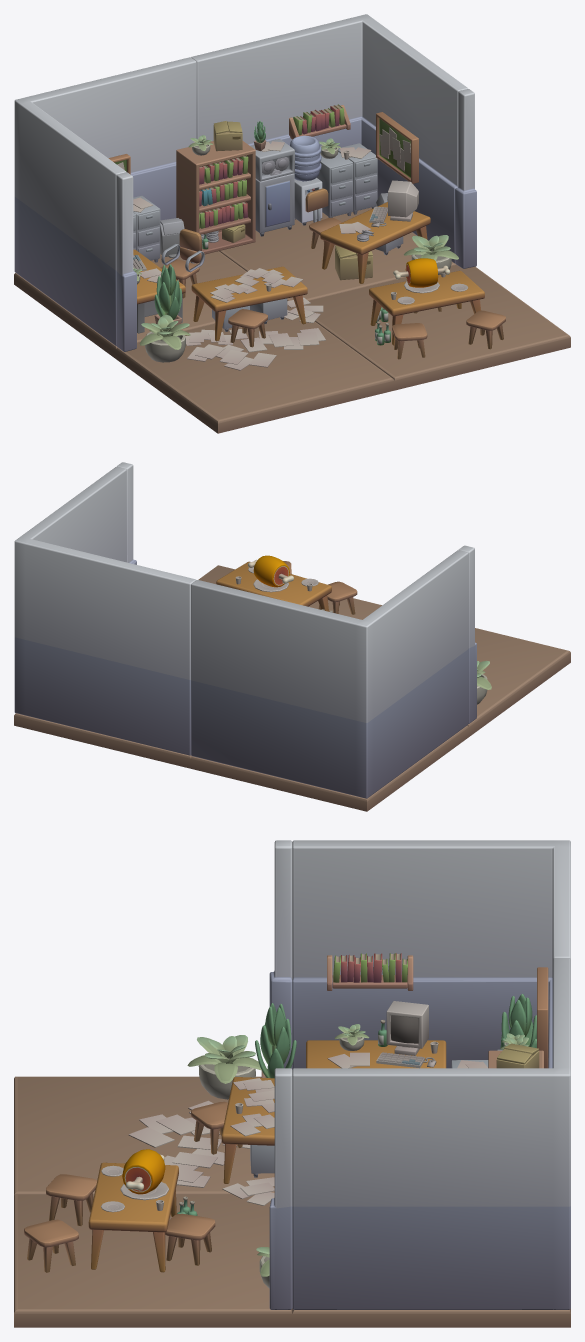
Rendered from Study Room.glb.
The picture shows the model from 3 angles, top to bottom: view 1: azimuth 30°, elevation 25°; view 2: azimuth 150°, elevation 25°; view 3: azimuth 270°, elevation 25°; orthographic projection. The views are drawn at different scales.
Visible parts, largest first — view 1: wall-angle.002, wall-angle.001, wall-angle-2.007, wall-angle-2.003, box.005, Cube.001, table.003, table.002, table.007, box.012, box.014, plant.005 (+23 smaller); view 2: wall-angle.002, wall-angle.001, wall-angle-2.007, table.003, wall-angle-2.003, meal.001, chair.006; view 3: wall-angle.001, wall-angle.002, wall-angle-2.003, wall-angle-2.007, table.003, plant.005, computer.001, table.006, table.007, plant.003, many-papers.006, chair.007 (+13 smaller).
Boxes of the visible parts, box(x1,y1,x2,y2) form: wall-angle.002: box(14, 57, 287, 358); wall-angle.001: box(191, 14, 468, 300); wall-angle-2.007: box(116, 172, 394, 433); wall-angle-2.003: box(295, 89, 570, 390); box.005: box(176, 141, 255, 254); Cube.001: box(250, 139, 294, 236); table.003: box(369, 270, 484, 345); table.002: box(320, 202, 430, 283); table.007: box(191, 266, 307, 341); box.012: box(290, 135, 322, 225); box.014: box(316, 152, 353, 217); plant.005: box(139, 314, 190, 362); wall-angle.002: box(190, 550, 468, 811); wall-angle.001: box(14, 467, 195, 768); wall-angle-2.007: box(458, 545, 570, 736); table.003: box(216, 561, 331, 611); wall-angle-2.003: box(116, 462, 381, 619); meal.001: box(248, 555, 293, 587); chair.006: box(318, 581, 357, 614); wall-angle.001: box(292, 958, 570, 1327); wall-angle.002: box(292, 840, 570, 1069); wall-angle-2.003: box(14, 1068, 292, 1327); wall-angle-2.007: box(14, 840, 292, 1195); table.003: box(88, 1162, 178, 1272); plant.005: box(187, 1035, 261, 1099); computer.001: box(376, 1001, 436, 1068); table.006: box(306, 1040, 446, 1068); table.007: box(221, 1077, 274, 1183); plant.003: box(255, 1003, 296, 1078); many-papers.006: box(164, 1135, 234, 1187); chair.007: box(24, 1219, 78, 1272).
Bounding box in the file's own units: 20 × 10.01 × 20.
